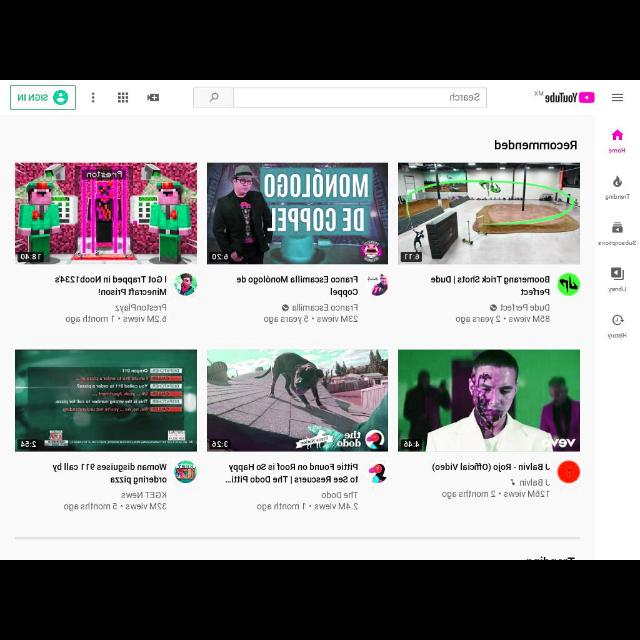button: (193, 89, 233, 108)
icon: (54, 90, 68, 106), (610, 268, 624, 280), (612, 314, 624, 326), (118, 92, 128, 104), (611, 130, 623, 140), (612, 221, 622, 233), (611, 92, 623, 101), (147, 94, 159, 102), (614, 175, 622, 187), (209, 92, 219, 101), (490, 304, 498, 312), (282, 304, 288, 312), (92, 92, 95, 102)
image: (15, 162, 197, 266), (398, 348, 580, 452), (398, 163, 580, 265), (206, 163, 388, 265), (15, 350, 197, 452), (207, 350, 389, 452), (534, 90, 594, 104), (173, 461, 197, 484), (558, 272, 580, 296), (174, 272, 196, 296), (557, 461, 579, 484), (366, 274, 388, 296), (365, 462, 387, 484)
input: (234, 87, 486, 107)
text: (63, 491, 167, 511), (66, 304, 166, 324), (228, 463, 358, 473), (442, 489, 550, 499), (225, 475, 358, 483), (432, 463, 550, 472), (52, 463, 168, 472), (256, 502, 358, 512), (236, 276, 358, 284), (430, 276, 550, 284), (54, 275, 166, 283), (495, 140, 577, 150), (455, 316, 549, 324), (264, 316, 358, 324), (99, 287, 168, 295), (292, 304, 358, 312), (110, 476, 168, 484), (500, 303, 550, 311), (508, 479, 550, 487), (450, 92, 480, 101), (520, 288, 550, 296), (598, 240, 636, 246), (330, 288, 358, 296), (322, 492, 358, 498), (18, 95, 48, 102), (604, 193, 630, 200), (608, 286, 626, 294), (608, 332, 626, 340), (608, 148, 626, 152)
textbutton: (10, 84, 76, 110)
